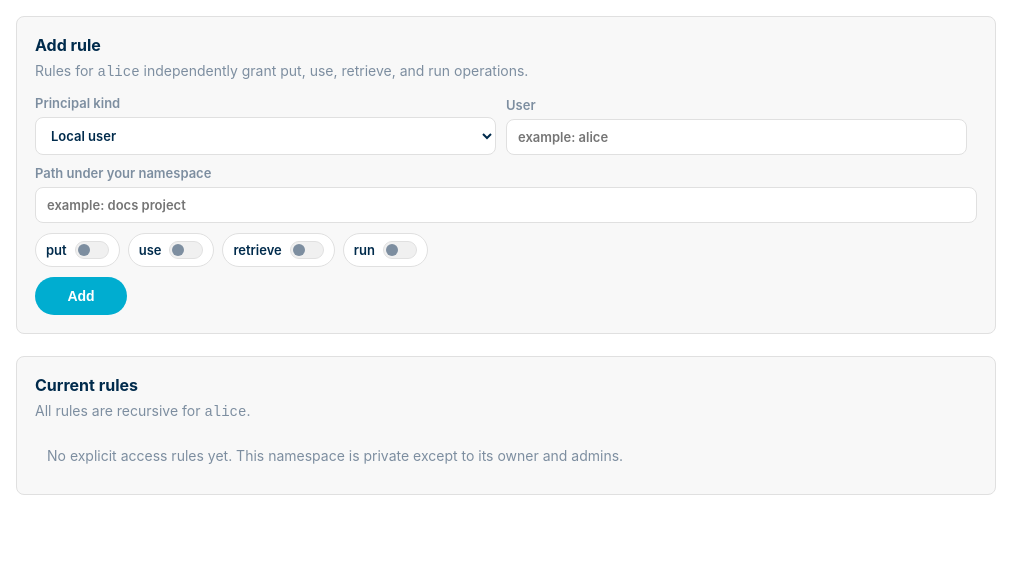
Test: AccessPanel › rejects a malformed principal clearly without clearing the input
Expected: the text "No explicit access rules yet. This namespace is private except to its owner and admins." is shown, [47, 447, 623, 464]
Select "Remote user" in the dropdown labelled "Principal kind". click: (266, 136)
box: [35, 117, 496, 155]
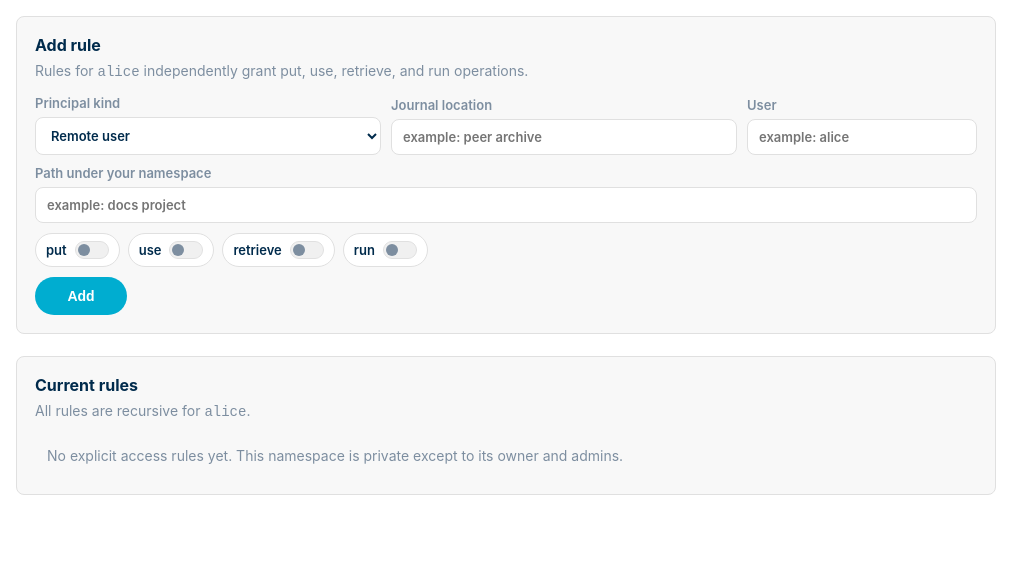
Type "peer *state*" into the field labelled "Journal location". click: (564, 137)
box: [391, 119, 737, 155]
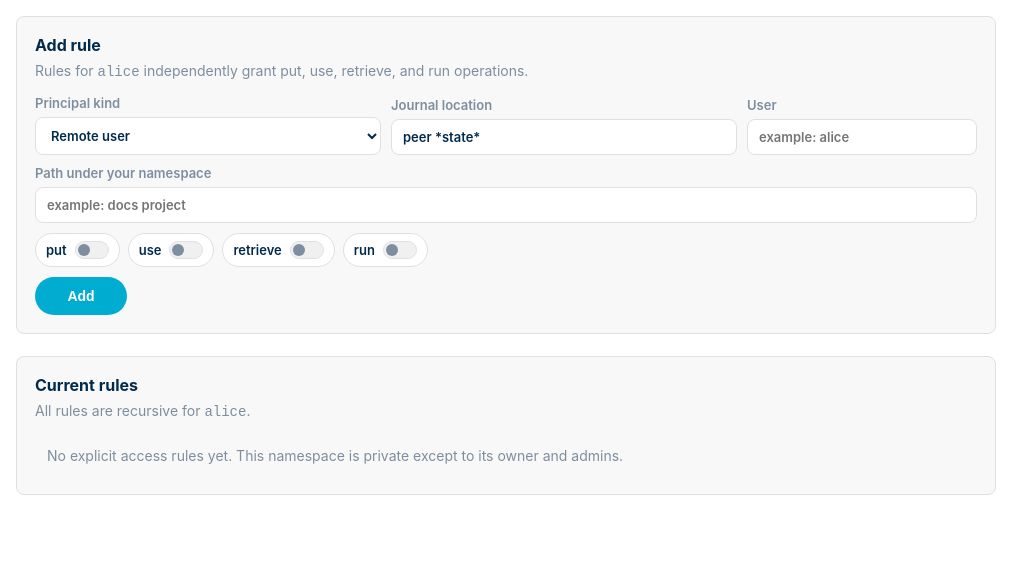
Click the checkbox labelled "use". click: (171, 250)
box: [139, 241, 204, 259]
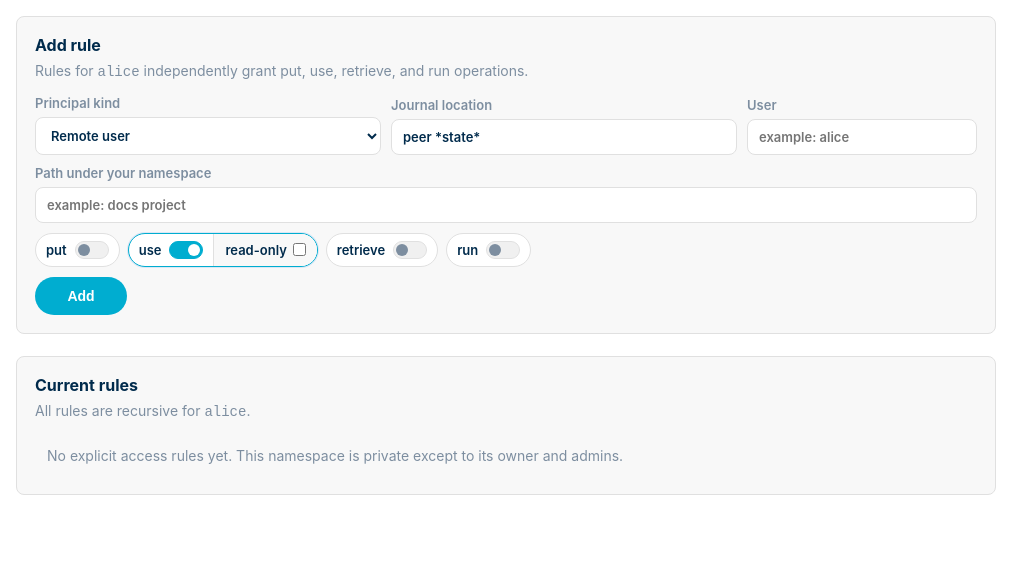
Click the checkbox labelled "read-only". click: (299, 250)
box: [293, 243, 306, 256]
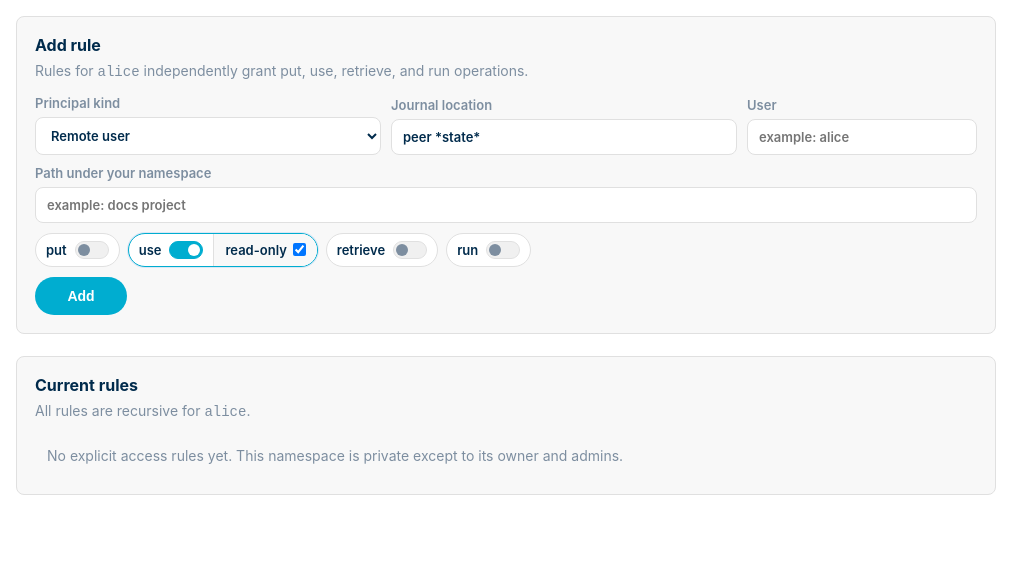
Click the button "Add". click: (81, 296)
box: [35, 277, 127, 315]
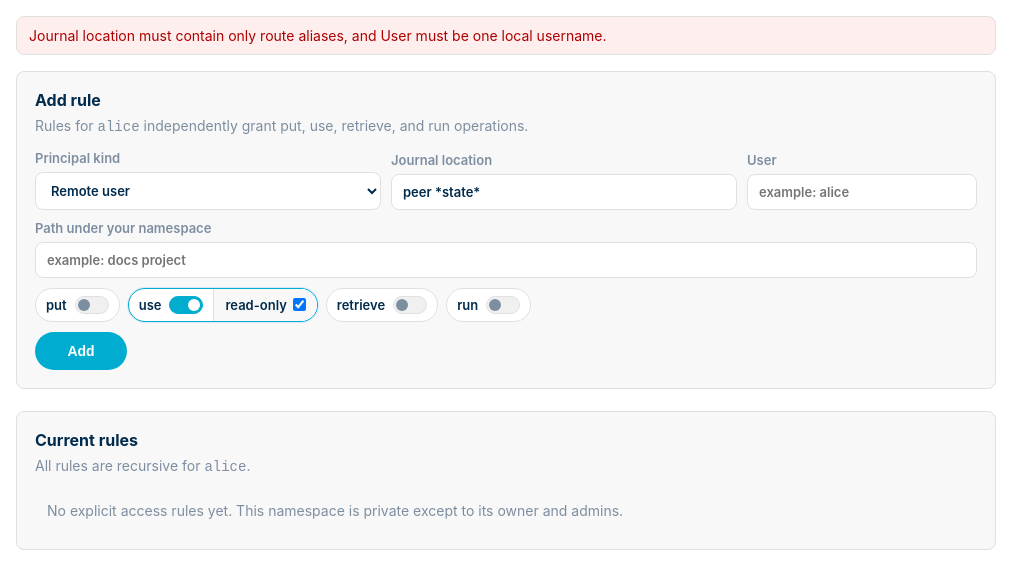
Expected: the text "Journal location must contain only route aliases, and User must be one local username." is shown, [29, 27, 606, 44]
